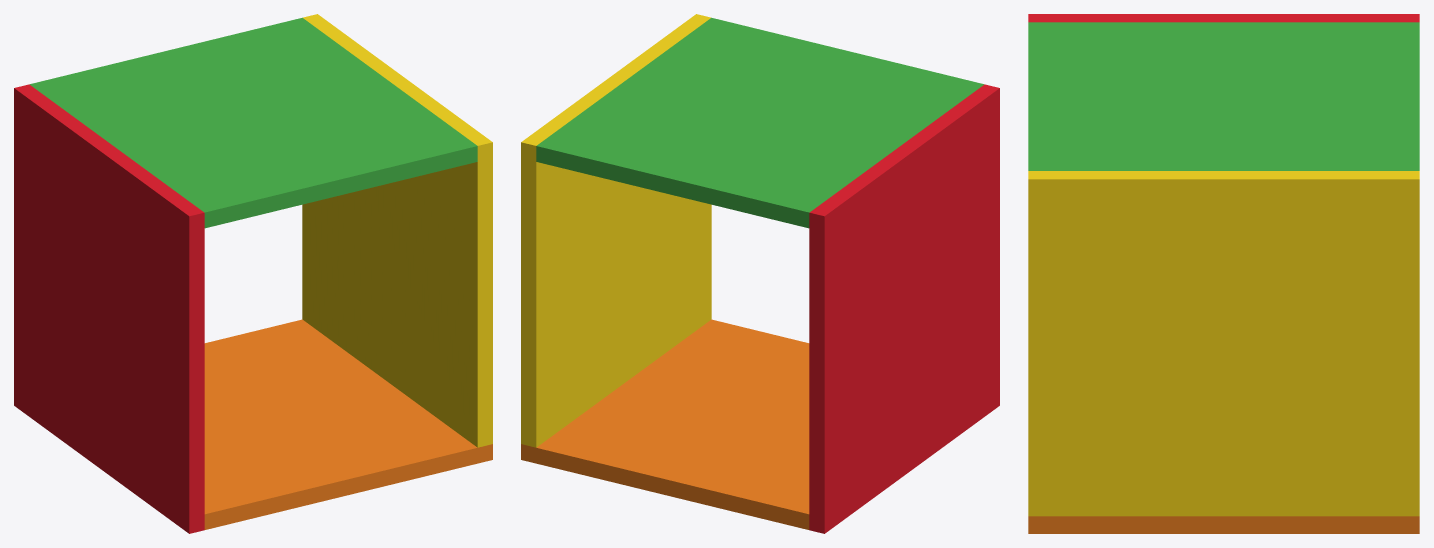
File: tinker.obj
3 views of the same model, side by side, from view 1: azimuth 30°, elevation 25°; view 2: azimuth 150°, elevation 25°; view 3: azimuth 270°, elevation 25° (orthographic). The views are drawn at different scales.
Parts seen in each view (by area): view 1: group_0_15277357, group_0_4634441, group_0_16768282, group_0_16089887; view 2: group_0_15277357, group_0_4634441, group_0_16768282, group_0_16089887; view 3: group_0_16768282, group_0_4634441, group_0_16089887, group_0_15277357.
Boxes of the visible parts, bbox=[...] form: group_0_15277357: bbox=[14, 84, 204, 533]; group_0_4634441: bbox=[29, 17, 477, 228]; group_0_16768282: bbox=[302, 14, 492, 447]; group_0_16089887: bbox=[204, 319, 492, 529]; group_0_15277357: bbox=[809, 84, 999, 533]; group_0_4634441: bbox=[536, 17, 984, 228]; group_0_16768282: bbox=[521, 14, 711, 447]; group_0_16089887: bbox=[521, 319, 809, 529]; group_0_16768282: bbox=[1028, 171, 1419, 516]; group_0_4634441: bbox=[1028, 22, 1419, 170]; group_0_16089887: bbox=[1028, 516, 1419, 533]; group_0_15277357: bbox=[1028, 14, 1419, 22].
Bounding box in the file's own units: 20 × 20 × 20.
